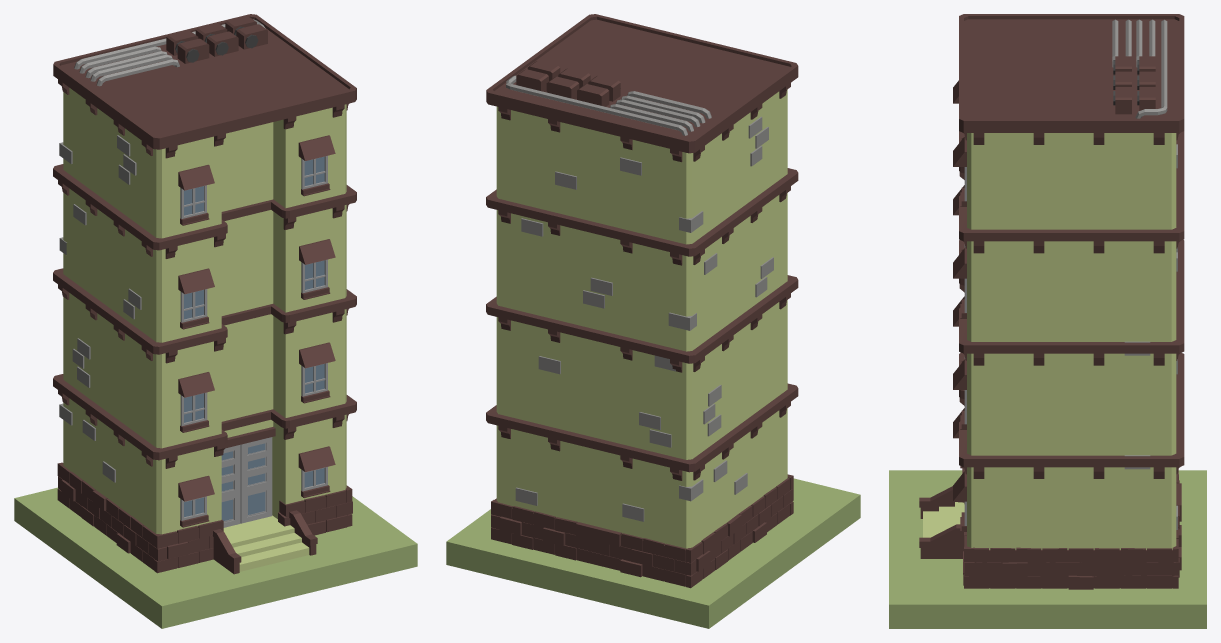
File: 4.bina 1.fbx
3 renders of one model, left to right at view 1: azimuth 30°, elevation 25°; view 2: azimuth 150°, elevation 25°; view 3: azimuth 270°, elevation 25°, orthographic. The views are drawn at different scales.
Visible parts, largest first — view 1: 4Story_Center_Mat, Cube; view 2: 4Story_Center_Mat, Cube; view 3: 4Story_Center_Mat, Cube.
Boxes of the visible parts, x1,y1,x2,y2 form: 4Story_Center_Mat: (53,14,356,574); Cube: (14,487,417,628); 4Story_Center_Mat: (486,14,798,588); Cube: (446,478,860,628); 4Story_Center_Mat: (919,14,1184,589); Cube: (889,470,1206,628).
Size of the model in its own units: 304 by 535 by 304.
